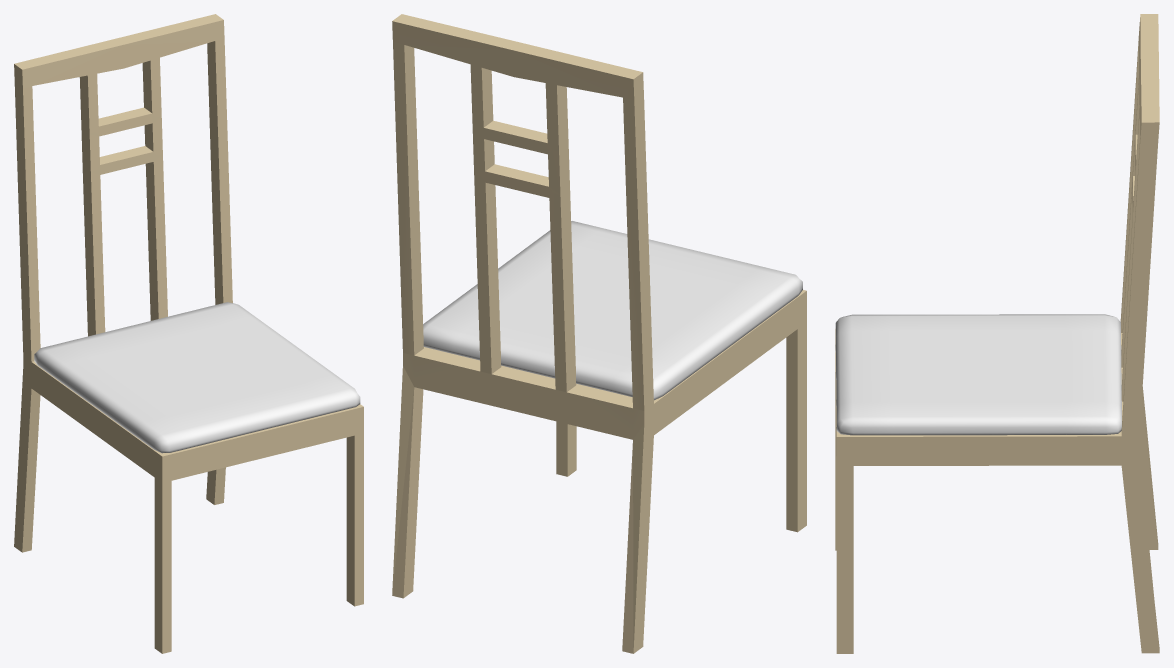
File: chair.glb
3 renders of one model, left to right at view 1: azimuth 30°, elevation 25°; view 2: azimuth 150°, elevation 25°; view 3: azimuth 270°, elevation 25°, orthographic. The views are drawn at different scales.
Visible parts, largest first — view 1: Object_3, Object_2; view 2: Object_3, Object_2; view 3: Object_2, Object_3.
Part boxes in pixels (x1,y1,x2,y2): Object_3: (14,14,363,653); Object_2: (34,302,360,453); Object_3: (392,14,806,653); Object_2: (423,221,802,400); Object_2: (835,314,1121,435); Object_3: (835,14,1159,653).
Bounding box in the file's own units: 0.5575 × 1.26 × 0.6973.
